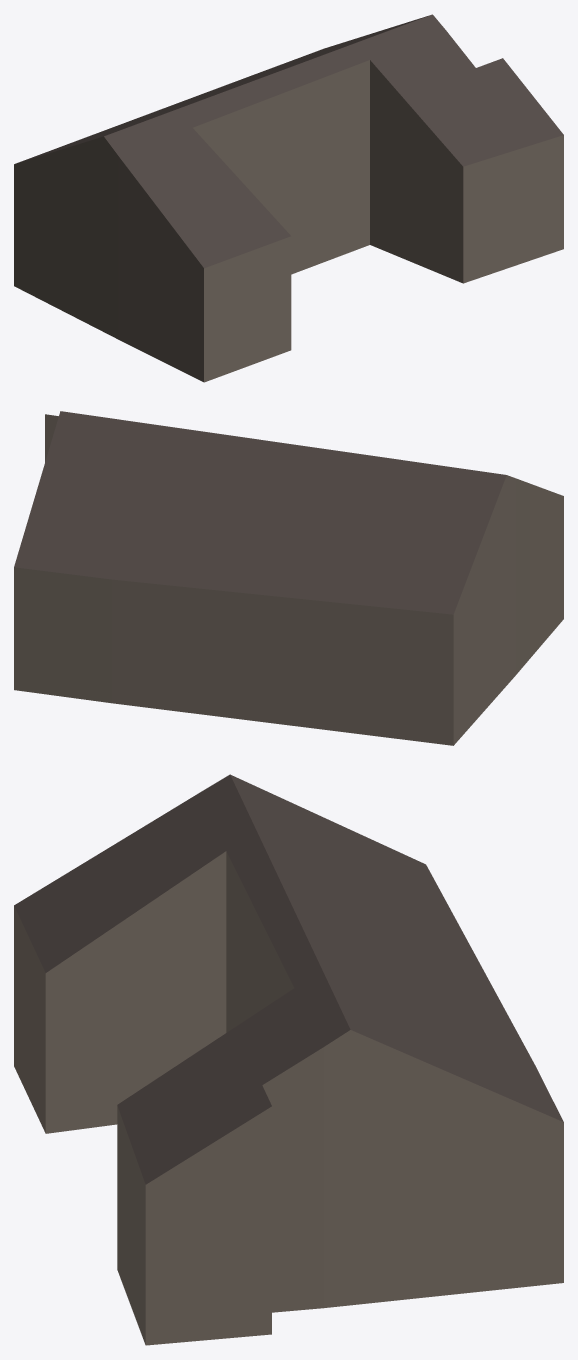
3 renders of one model, top to bottom at view 1: azimuth 30°, elevation 25°; view 2: azimuth 150°, elevation 25°; view 3: azimuth 270°, elevation 25°, orthographic. The views are drawn at different scales.
Parts seen in each view (by area): view 1: HP-w1198842233; view 2: HP-w1198842233; view 3: HP-w1198842233.
Part boxes in pixels (x1=…): HP-w1198842233: x1=14, y1=14, x2=563, y2=382; HP-w1198842233: x1=14, y1=411, x2=563, y2=745; HP-w1198842233: x1=14, y1=774, x2=563, y2=1345.
Size of the model in its own units: 24.78 by 10.29 by 18.62.
